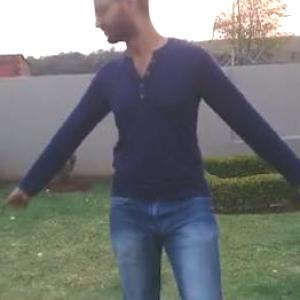land: (50, 11, 267, 298)
